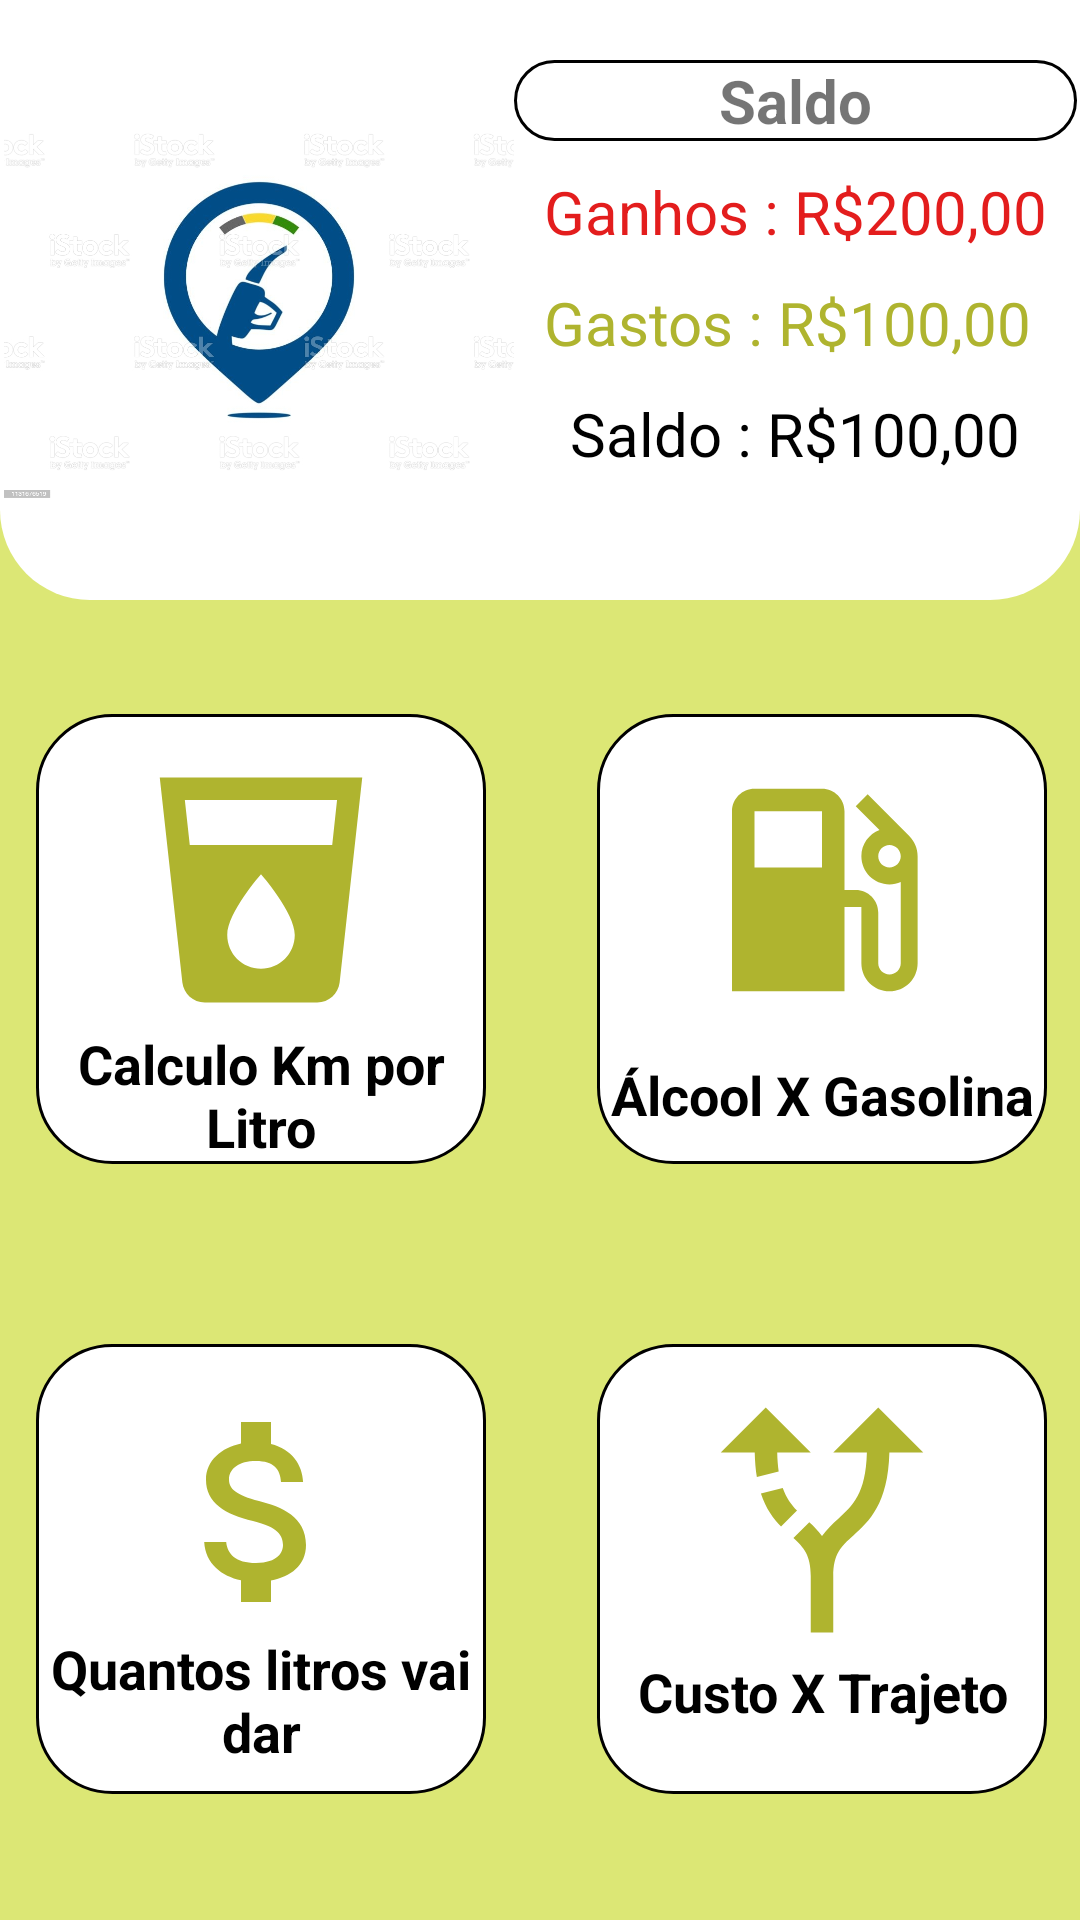

Named icons in this screenshot (1080×1920) and their centers, (x,y):
attach money: (255,1512)
local drink: (261,890)
local gas station: (825,890)
route: (822,1520)
